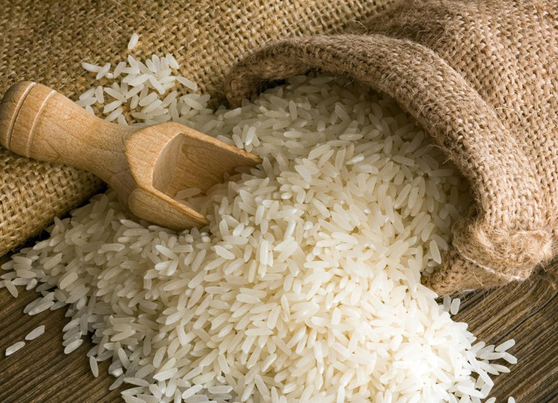rice: (115, 104, 422, 403)
